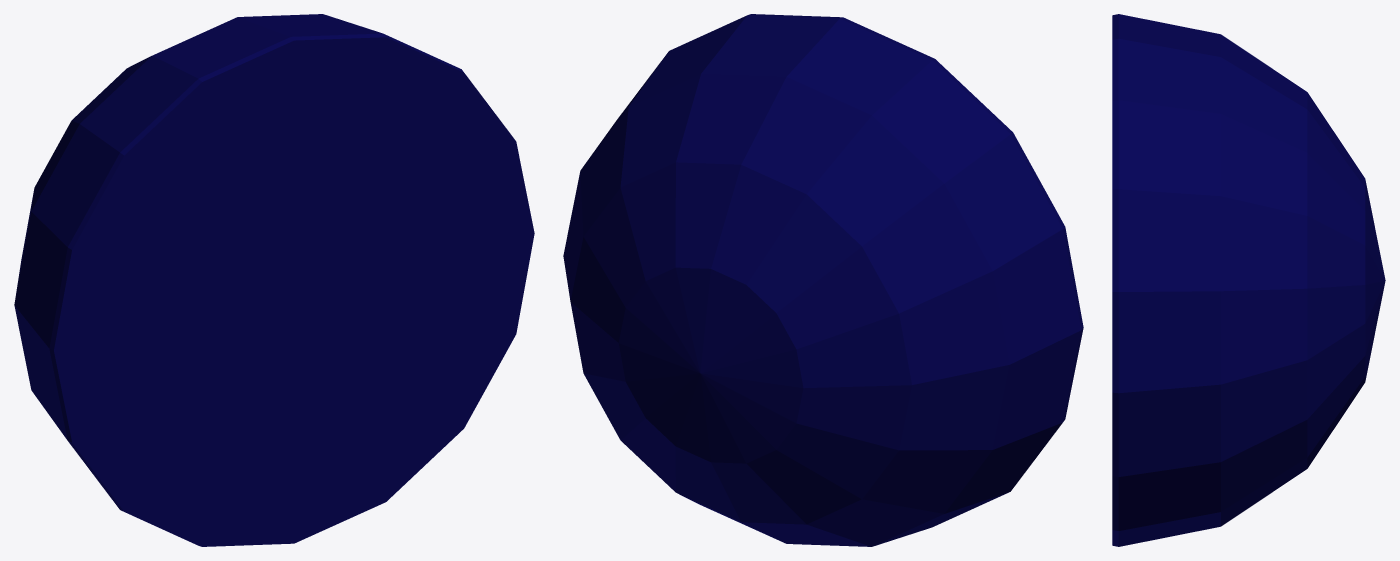
Rendered from blue_btm.obj.
The picture shows the model from 3 angles, left to right: view 1: azimuth 30°, elevation 25°; view 2: azimuth 150°, elevation 25°; view 3: azimuth 270°, elevation 25°; orthographic projection. The views are drawn at different scales.
Parts seen in each view (by area): view 1: Sphere_Sphere.004; view 2: Sphere_Sphere.004; view 3: Sphere_Sphere.004.
Boxes of the visible parts, box(x1,y1,x2,y2) form: Sphere_Sphere.004: box(14, 14, 534, 546); Sphere_Sphere.004: box(563, 14, 1083, 546); Sphere_Sphere.004: box(1112, 14, 1385, 546).
Size of the model in its own units: 5.32 by 5.32 by 2.73.
